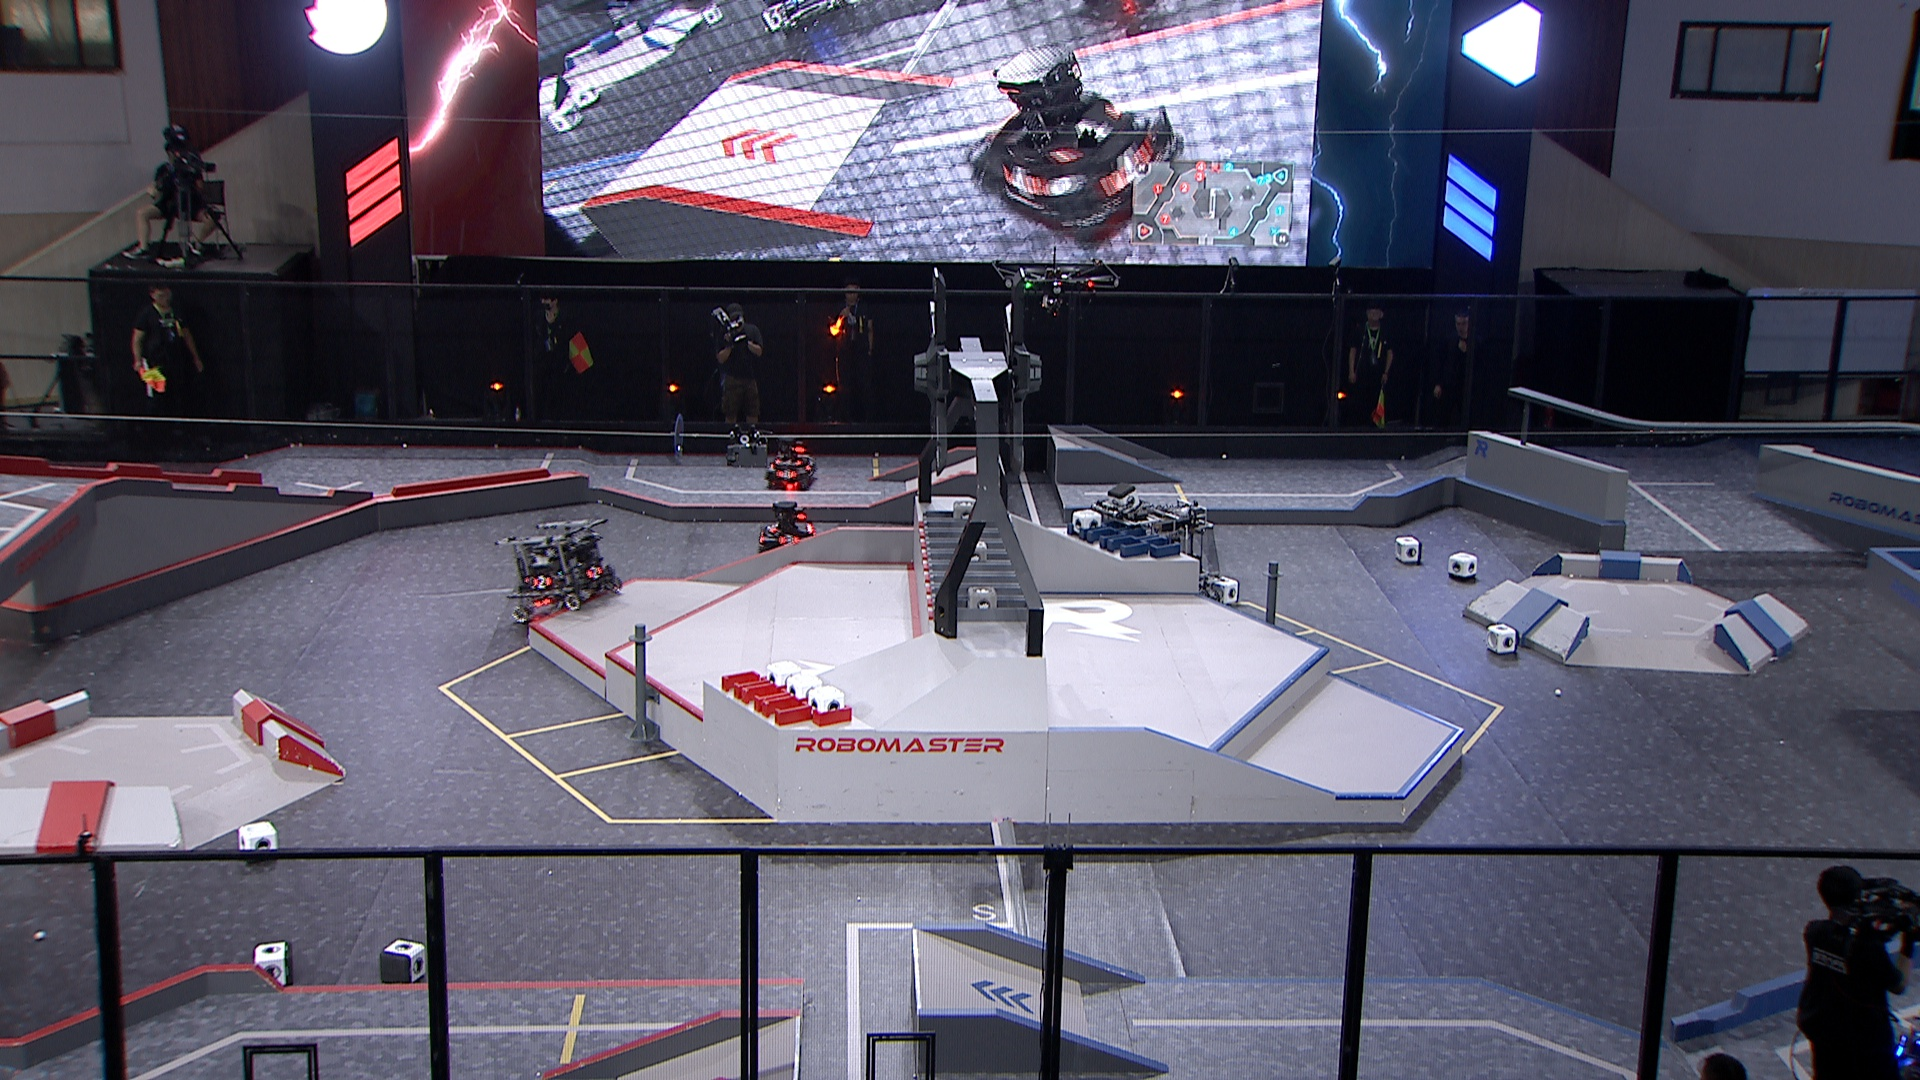armor: (774, 467, 798, 480), (778, 533, 799, 547), (531, 575, 553, 589), (585, 564, 603, 582), (773, 458, 803, 467), (765, 520, 781, 535)
car: (1096, 495, 1226, 616), (495, 518, 622, 624), (757, 498, 818, 553), (765, 438, 818, 491), (1884, 1015, 1920, 1080)
ignore: (964, 45, 1185, 233), (760, 0, 856, 34)
